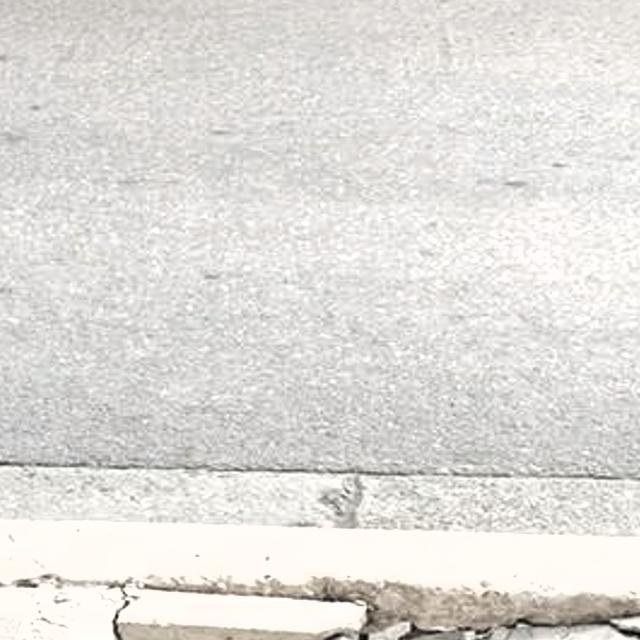lose: (0, 536, 640, 640)
